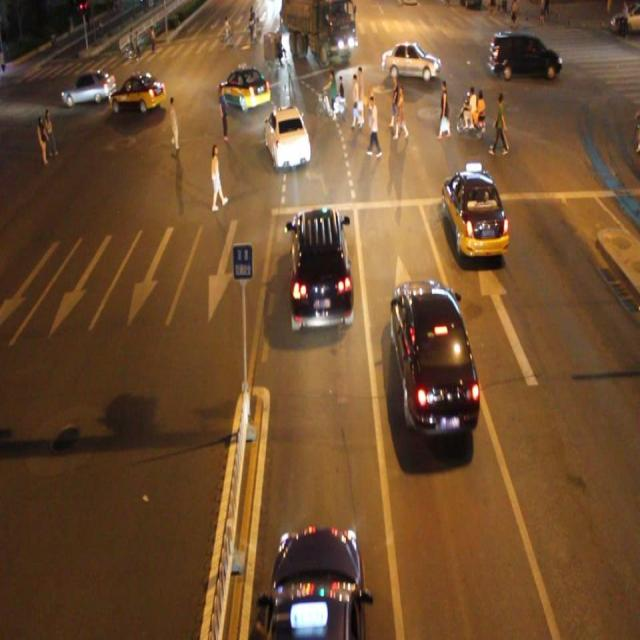bus: (281, 1, 356, 64)
car: (392, 278, 478, 434), (267, 522, 363, 640), (288, 205, 352, 330), (441, 168, 507, 259), (488, 29, 561, 81), (264, 106, 310, 169), (380, 39, 439, 83), (216, 65, 270, 110), (112, 74, 167, 112), (60, 70, 116, 104)
